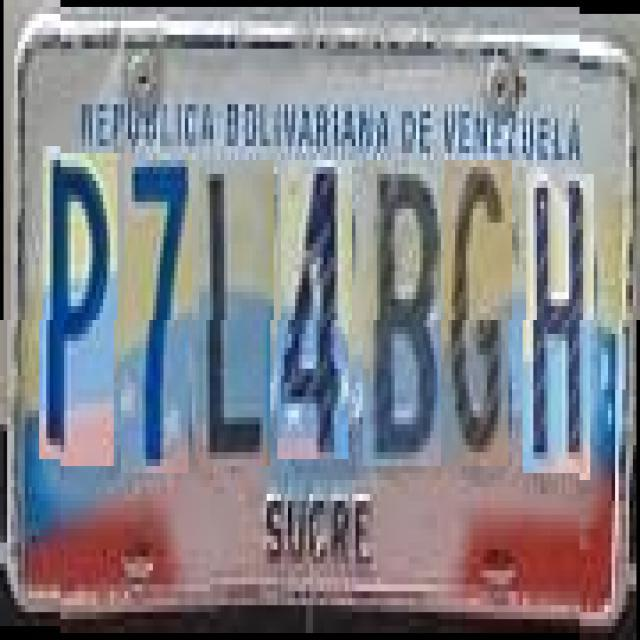4: (281, 160, 352, 459)
7: (124, 153, 192, 473)
B: (366, 160, 444, 466)
G: (444, 160, 512, 466)
H: (526, 167, 594, 473)
L: (199, 160, 274, 466)
P: (42, 153, 118, 466)
